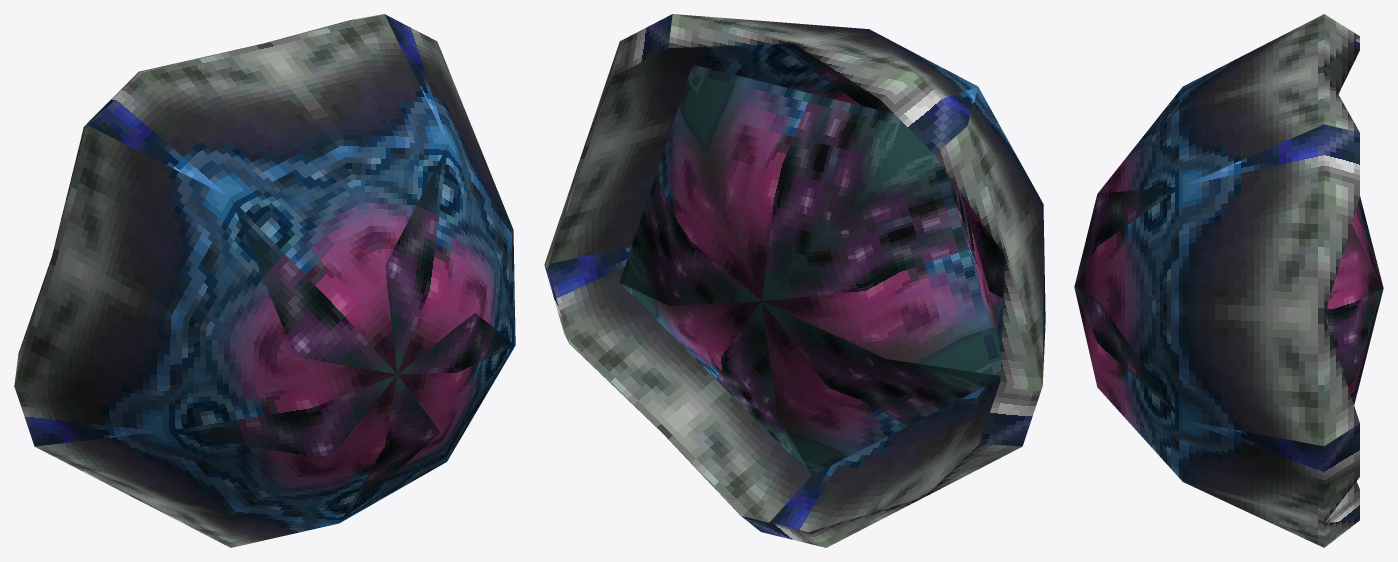
Rendered from balinade_medusan_parts.obj.
3 renders of one model, left to right at view 1: azimuth 30°, elevation 25°; view 2: azimuth 150°, elevation 25°; view 3: azimuth 270°, elevation 25°, orthographic. The views are drawn at different scales.
Visible parts, largest first — view 1: nodes_5__meshes[1]; view 2: nodes_4__meshes[0], nodes_5__meshes[1]; view 3: nodes_5__meshes[1], nodes_4__meshes[0].
Part boxes in pixels (x1,y1,x2,y2): nodes_5__meshes[1]: (14, 14, 515, 547); nodes_4__meshes[0]: (619, 65, 1001, 475); nodes_5__meshes[1]: (544, 14, 1045, 547); nodes_5__meshes[1]: (1074, 14, 1359, 547); nodes_4__meshes[0]: (1324, 196, 1383, 404).
Bounding box in the file's own units: 605 × 576 × 348.
2 materials, 2 textured.
